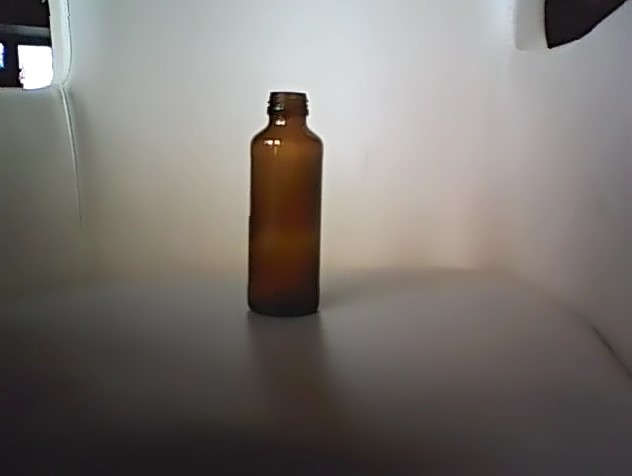Glass: (239, 87, 330, 323)
